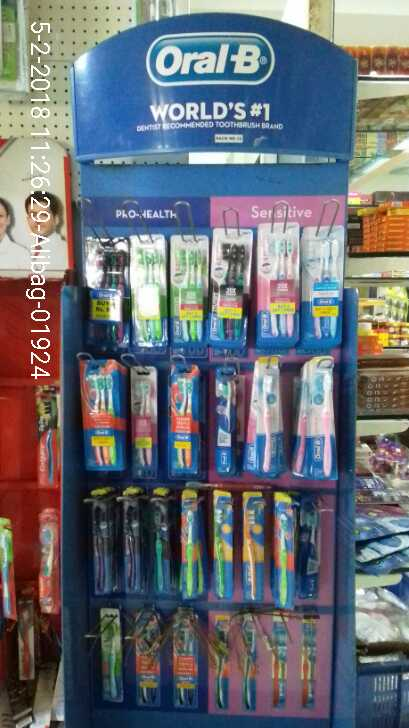oralb: (283, 362, 345, 475), (81, 238, 135, 352), (251, 218, 294, 338), (160, 232, 206, 341), (202, 232, 247, 341), (301, 225, 343, 339), (79, 368, 120, 473), (129, 230, 166, 345), (166, 367, 199, 476), (130, 367, 158, 473), (297, 501, 319, 623), (254, 370, 281, 469), (91, 502, 118, 599), (211, 375, 238, 465), (271, 509, 296, 605), (177, 509, 202, 597), (210, 506, 233, 601), (240, 509, 262, 608), (118, 498, 139, 601), (152, 495, 170, 600)
